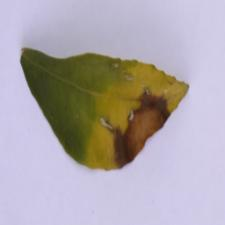Black: (100, 73, 182, 181)
